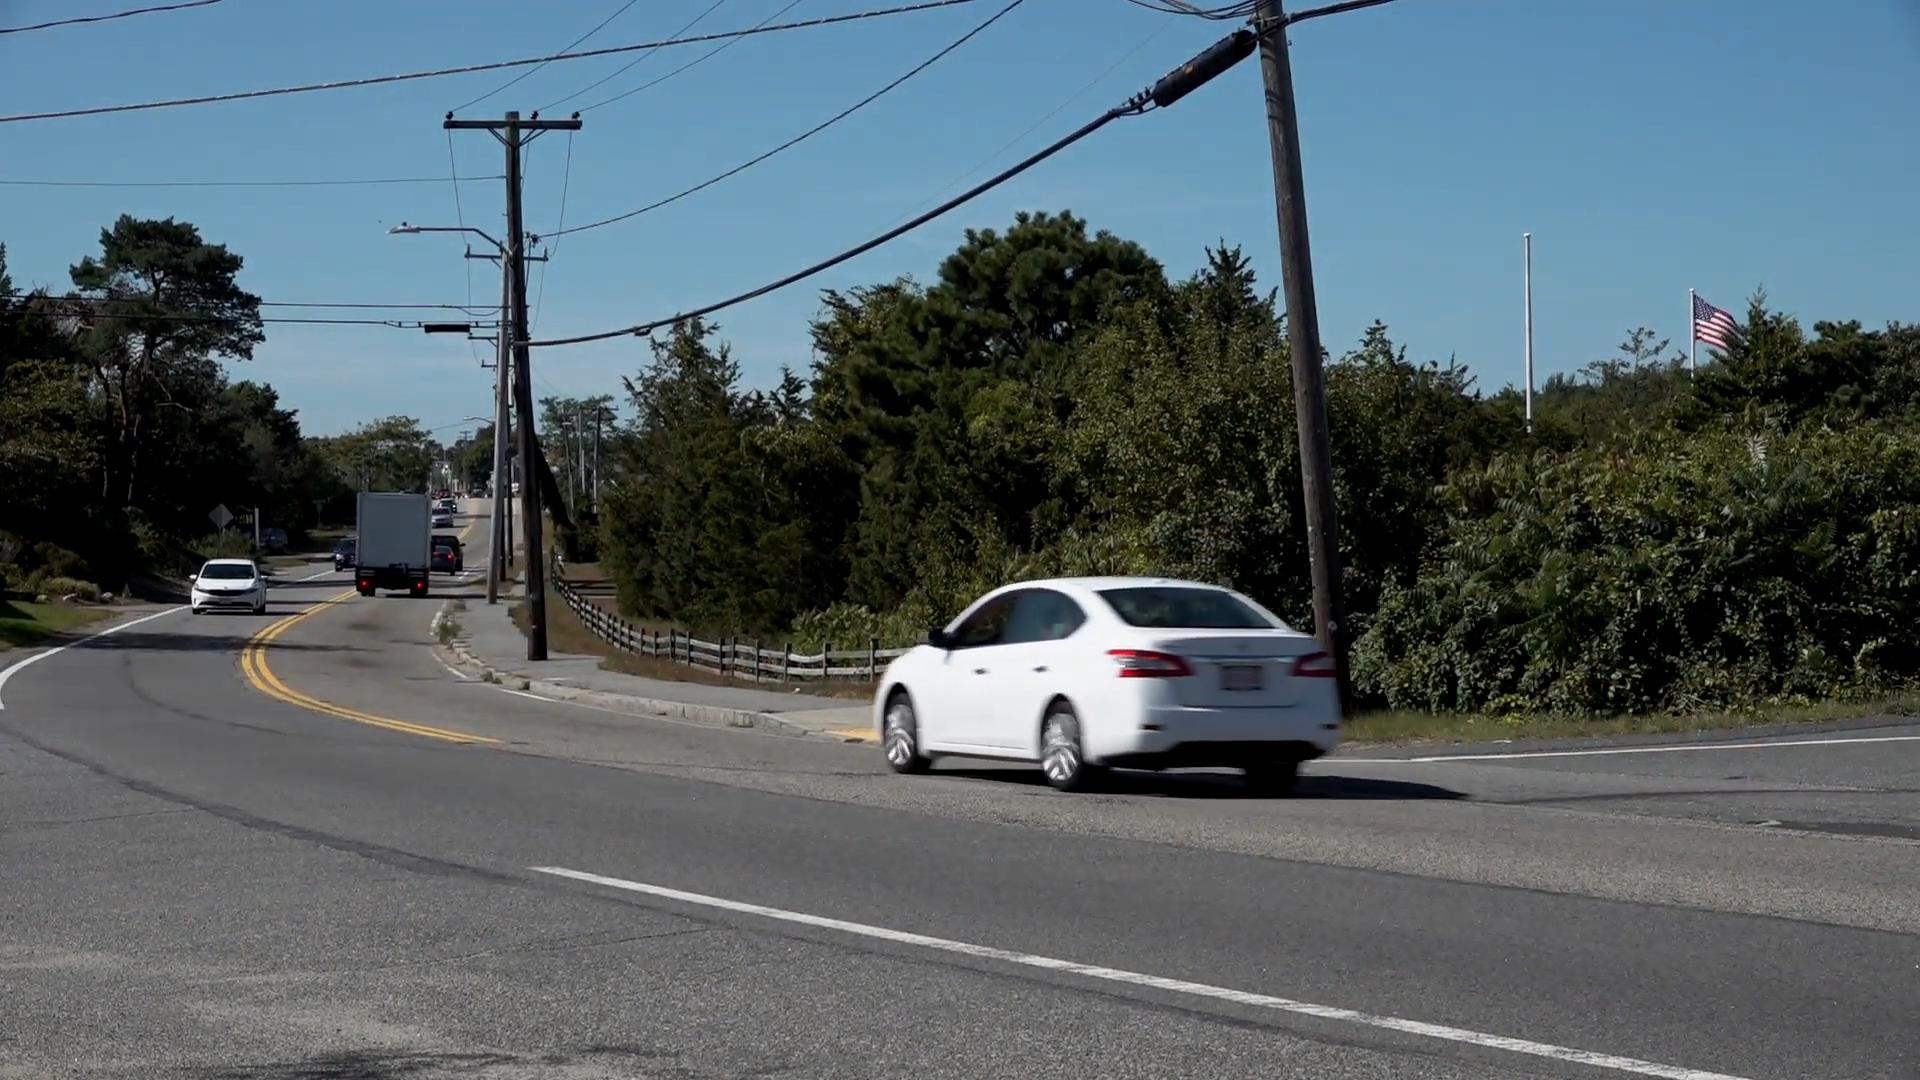sedans: (876, 579, 1338, 793), (187, 559, 270, 616)
